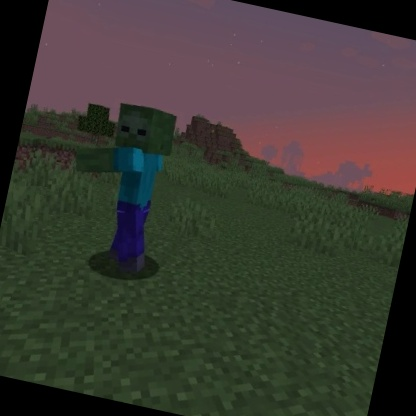zombie: (49, 92, 185, 281)
